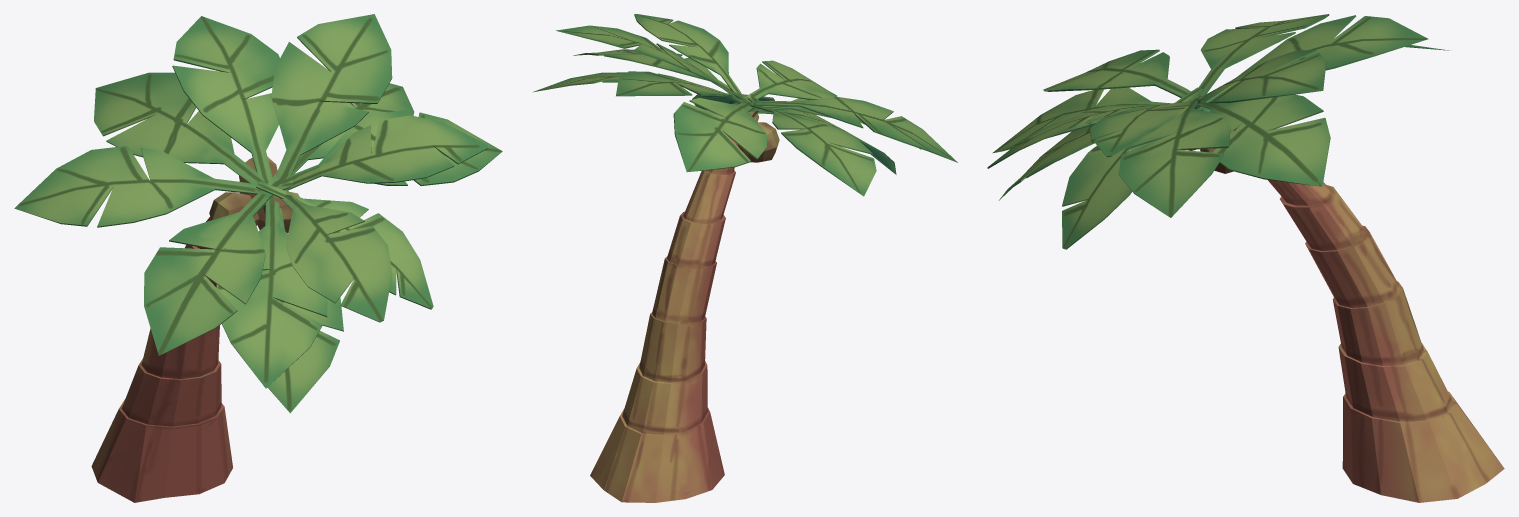
Rendered from Tree3.fbx.
The picture shows the model from 3 angles, left to right: view 1: azimuth 30°, elevation 25°; view 2: azimuth 150°, elevation 25°; view 3: azimuth 270°, elevation 25°; orthographic projection. The views are drawn at different scales.
Visible parts, largest first — view 1: Tree_3_copy_Tree1; view 2: Tree_3_copy_Tree1; view 3: Tree_3_copy_Tree1.
Boxes of the visible parts, left/top/right/bottom form: Tree_3_copy_Tree1: left=14, top=14, right=502, bottom=502; Tree_3_copy_Tree1: left=532, top=14, right=957, bottom=502; Tree_3_copy_Tree1: left=987, top=14, right=1504, bottom=502.
Size of the model in its own units: 7.42 by 7.73 by 7.75.
